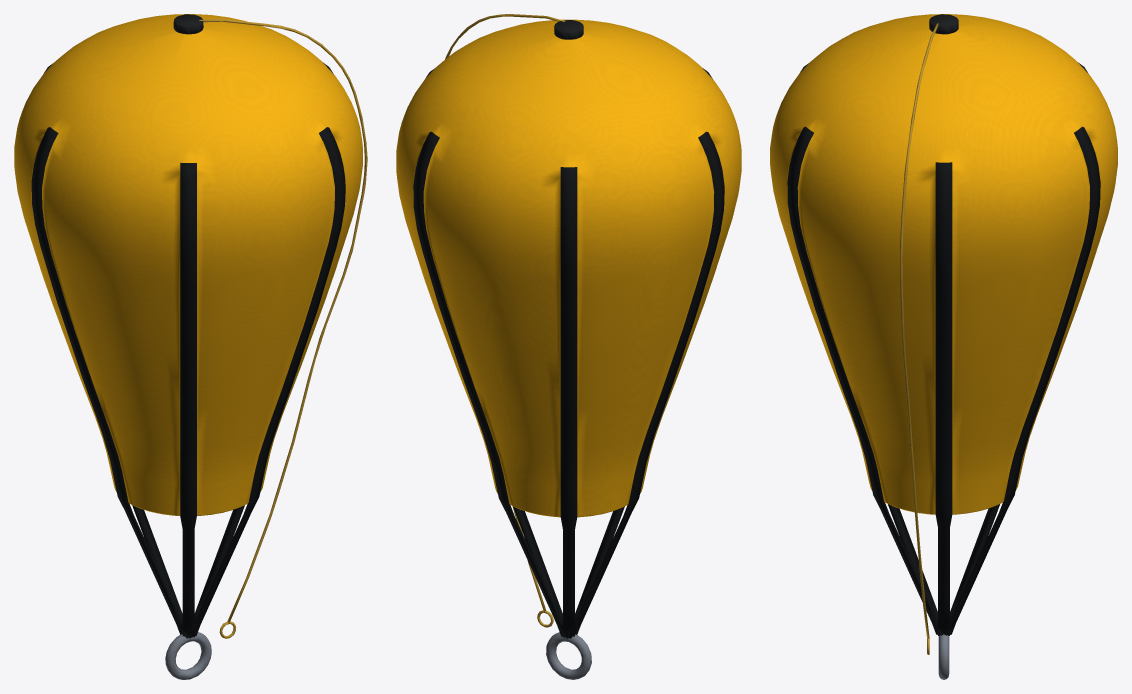
Rendered from NEW691_LiftBag_LOD2.fbx.
3 renders of one model, left to right at view 1: azimuth 30°, elevation 25°; view 2: azimuth 150°, elevation 25°; view 3: azimuth 270°, elevation 25°, orthographic.
Parts seen in each view (by area): view 1: Open_bottom_cloth_with_six_harness_legs, External_dump_pull_line, Single_vertical_metal_load_ring, External_top_dump_valve; view 2: Open_bottom_cloth_with_six_harness_legs, Single_vertical_metal_load_ring, External_dump_pull_line, External_top_dump_valve; view 3: Open_bottom_cloth_with_six_harness_legs, External_dump_pull_line.
Part boxes in pixels (x1,y1,x2,y2): Open_bottom_cloth_with_six_harness_legs: [14, 14, 362, 638]; External_dump_pull_line: [199, 19, 367, 624]; Single_vertical_metal_load_ring: [165, 632, 211, 679]; External_top_dump_valve: [173, 14, 203, 34]; Open_bottom_cloth_with_six_harness_legs: [396, 19, 741, 638]; Single_vertical_metal_load_ring: [546, 632, 591, 679]; External_dump_pull_line: [445, 14, 565, 612]; External_top_dump_valve: [554, 20, 583, 39]; Open_bottom_cloth_with_six_harness_legs: [770, 14, 1117, 635]; External_dump_pull_line: [900, 23, 938, 638].
Bounding box in the file's own units: 1.03 × 2.1 × 1.
5 materials, 5 textured.
